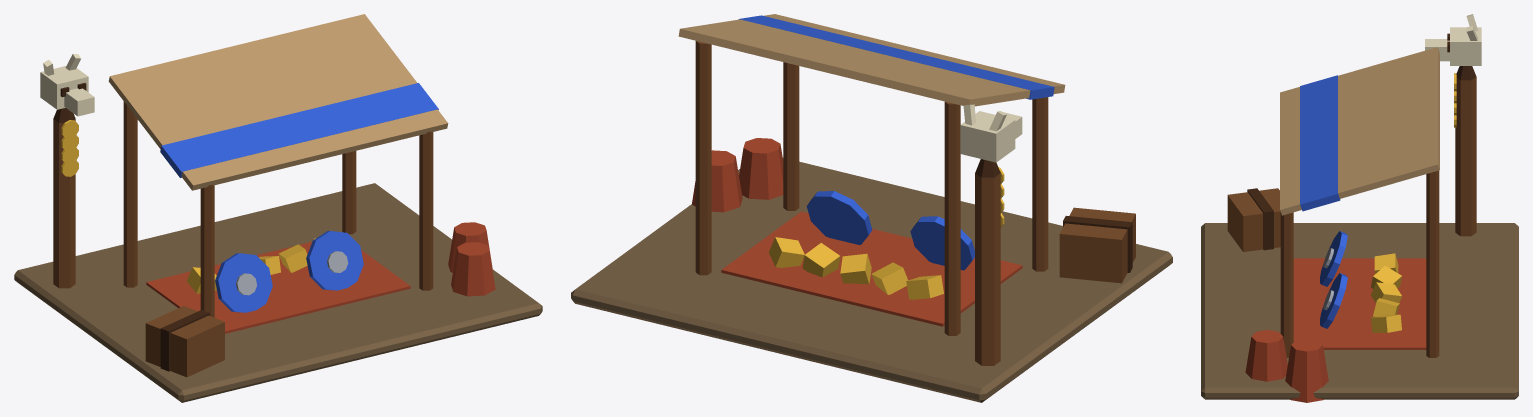
File: Market.glb
The picture shows the model from 3 angles, left to right: view 1: azimuth 30°, elevation 25°; view 2: azimuth 150°, elevation 25°; view 3: azimuth 270°, elevation 25°; orthographic projection. The views are drawn at different scales.
Visible parts, largest first — view 1: Market; view 2: Market; view 3: Market.
Part boxes in pixels (x1,y1,x2,y2): Market: (14,14,542,402); Market: (571,14,1172,402); Market: (1201,14,1518,402).
Bounding box in the file's own units: 2.9 × 1.8 × 2.3.
